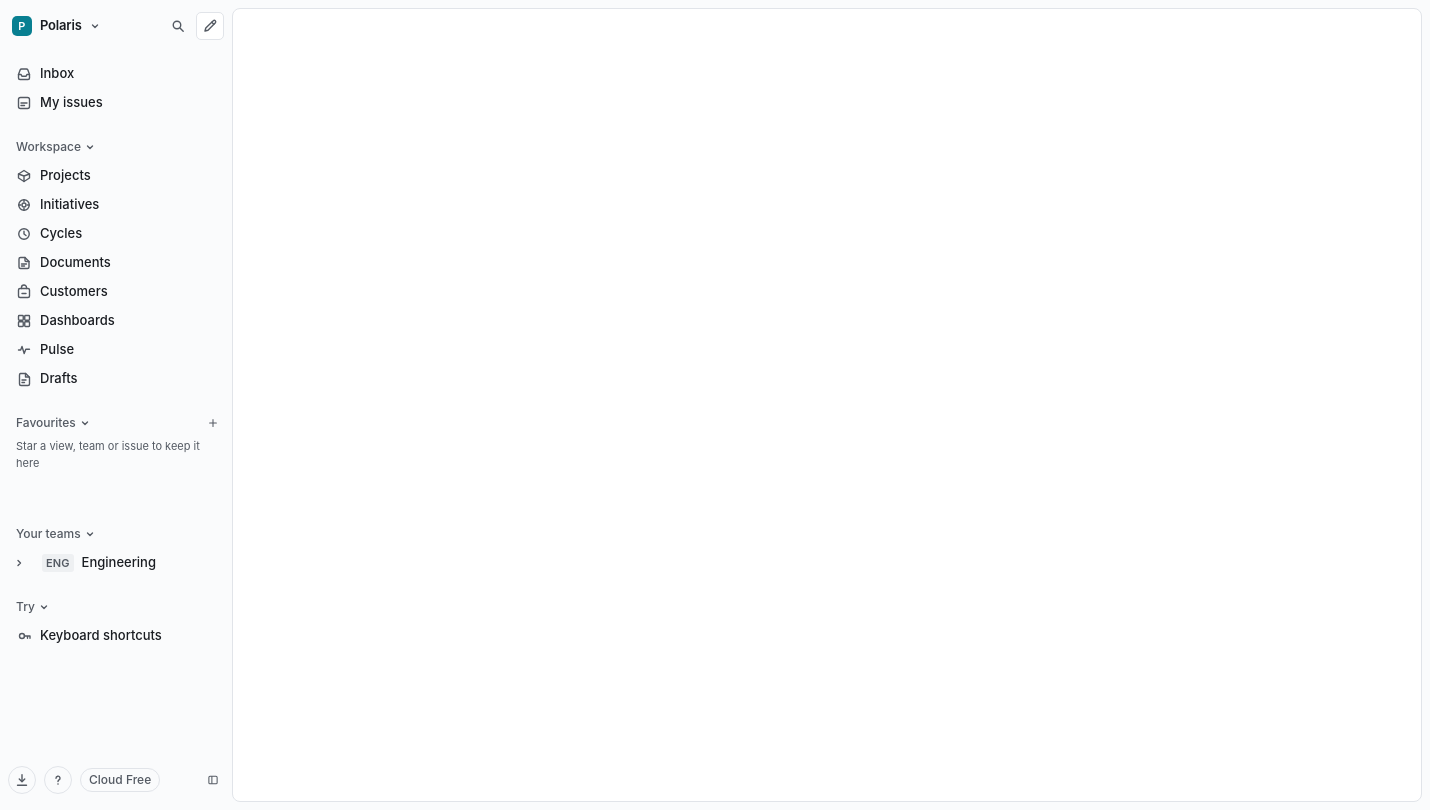
it: the workspace menu › offers settings, an invitation and the way out
Click the button with aria-label "Workspace menu" at (84, 26), box [8,12,160,40]
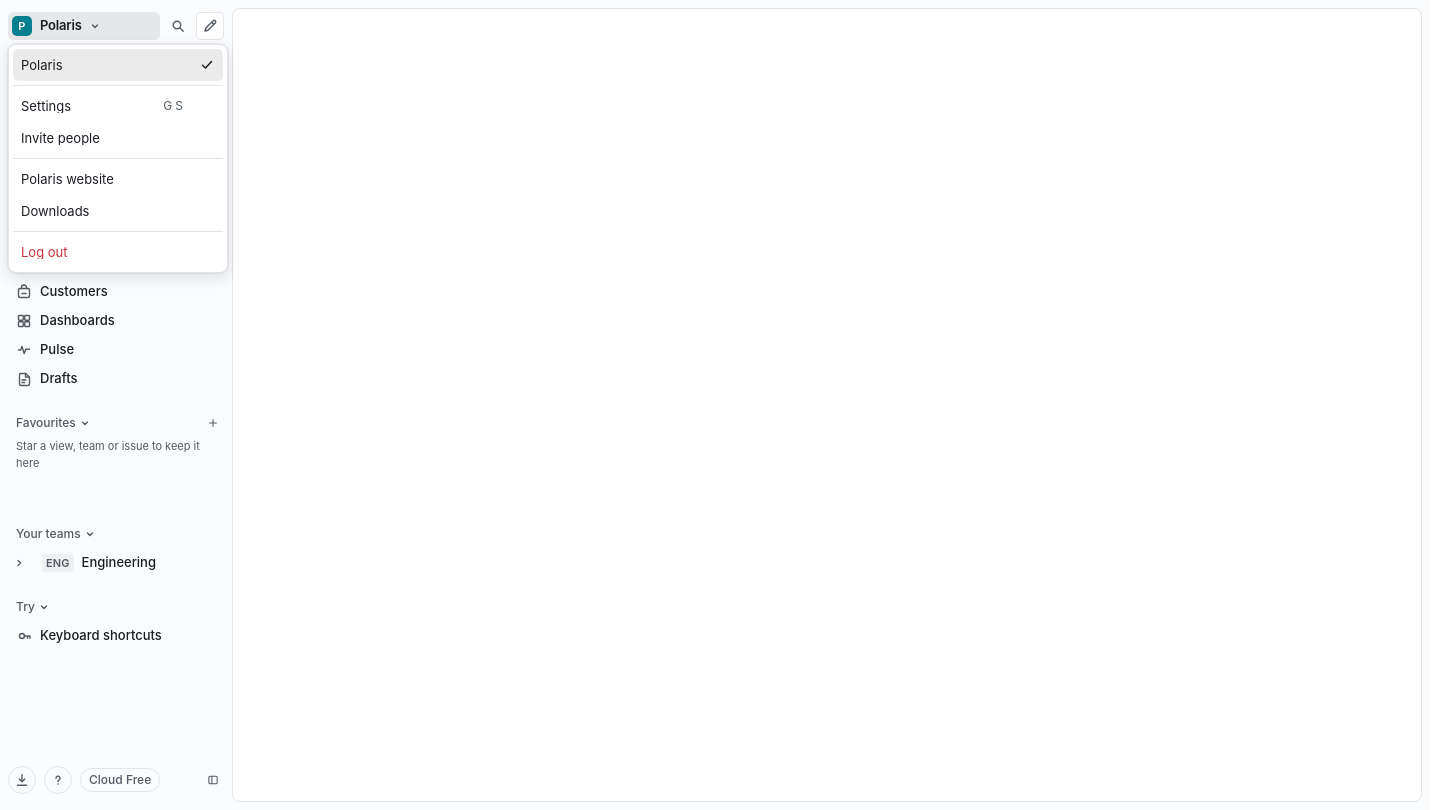
Now the menu item "Settings G S" is shown, box [21,98,183,114]
Now the menu item "Invite people" is shown, box [21,130,100,146]
Now the menu item "Log out" is shown, box [21,244,68,260]
